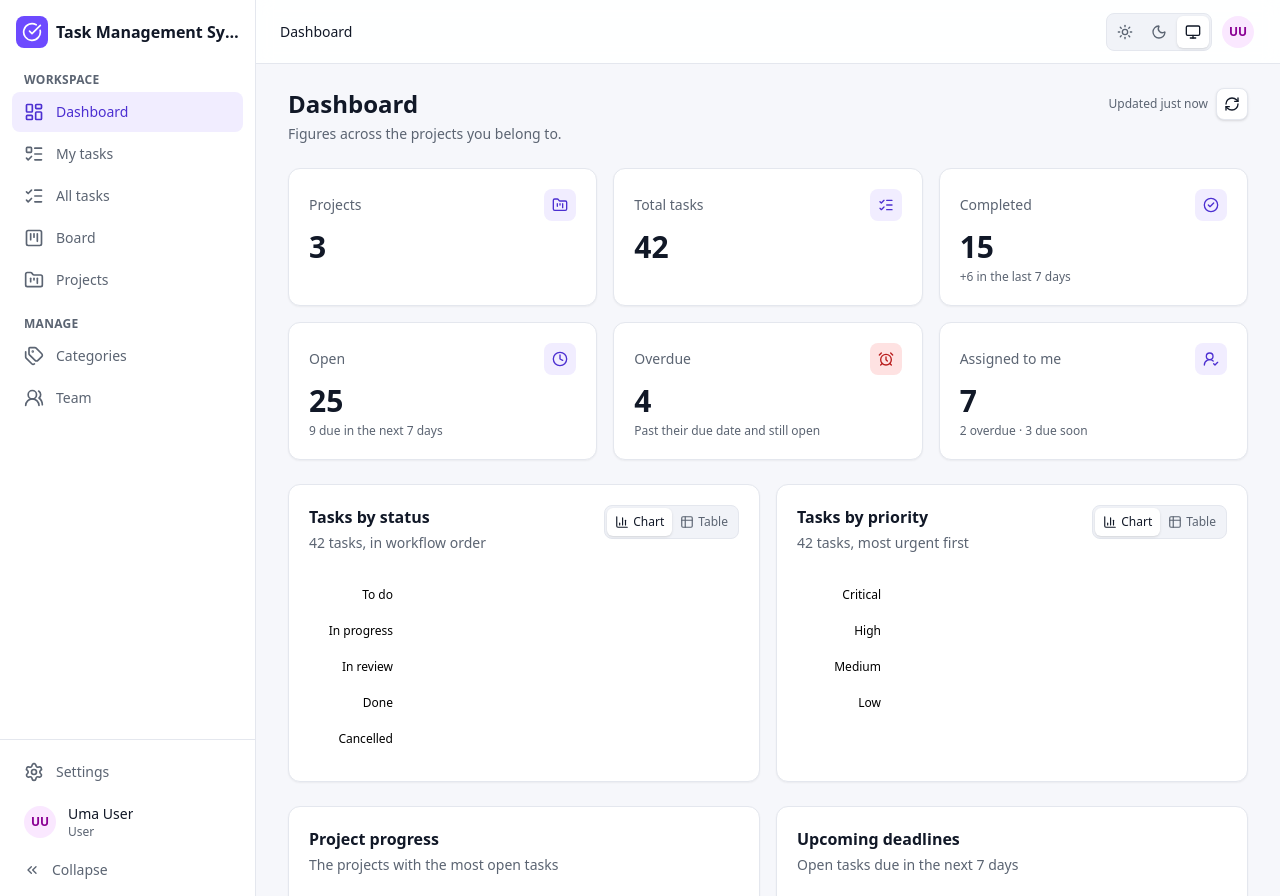
Test: Layout › collapses the desktop sidebar to an icon rail and remembers it
Check: the heading "Dashboard" is shown, box [288, 87, 418, 120]
Check: the text "Projects" below "All tasks" is shown, box [56, 270, 108, 289]
Click the button with aria-label "Collapse sidebar": x=128, y=870 [12, 852, 243, 888]
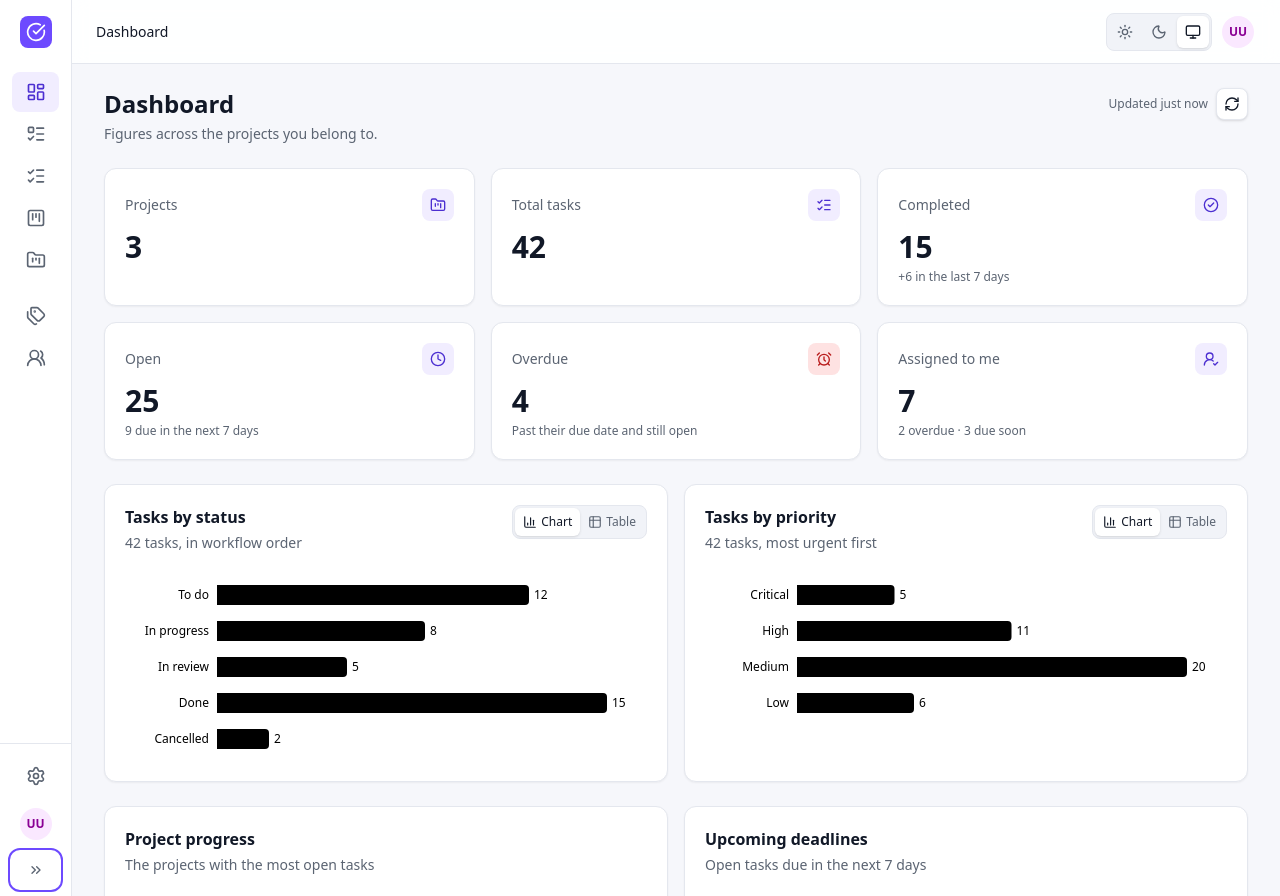
Check: the link named "Projects" is shown, box [26, 250, 46, 270]
Check: the button named "Expand sidebar" is shown, box [12, 852, 59, 888]
